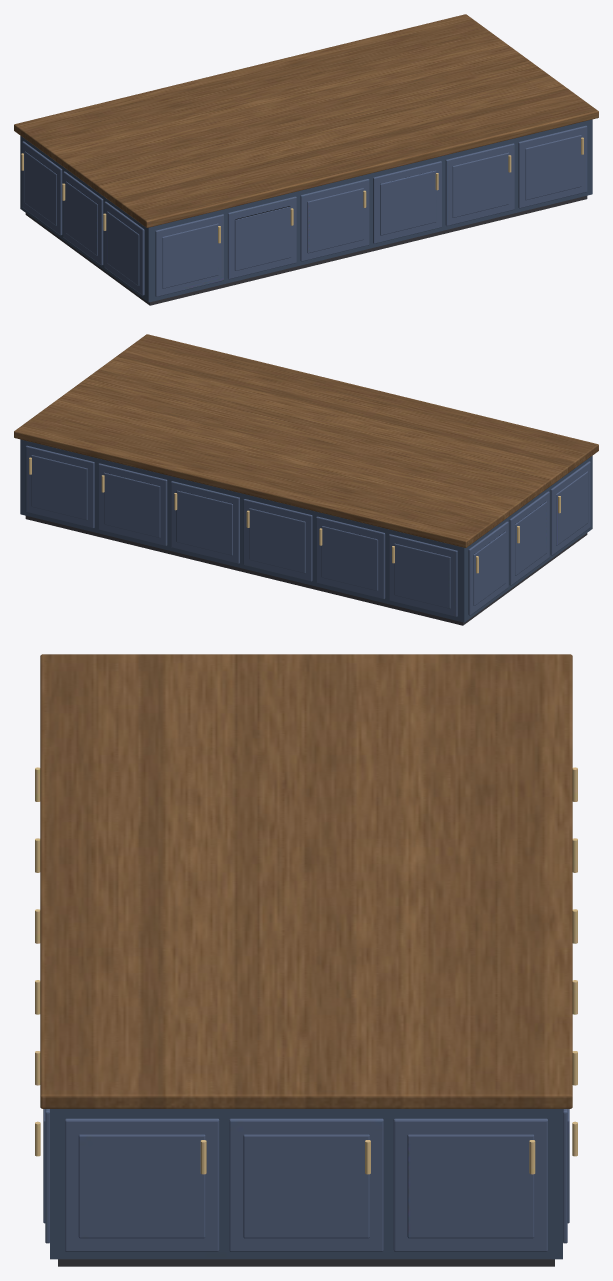
Rendered from counter.glb.
3 views of the same model, one above another, from view 1: azimuth 30°, elevation 25°; view 2: azimuth 150°, elevation 25°; view 3: azimuth 270°, elevation 25° (orthographic). The views are drawn at different scales.
Parts seen in each view (by area): view 1: counter; view 2: counter; view 3: counter.
Part boxes in pixels (<box>): counter: <box>14,14,598,305</box>; counter: <box>14,334,598,625</box>; counter: <box>35,654,577,1266</box>.
Bounding box in the file's own units: 53.54 × 10 × 27.54.
Materials: 1 (1 with a texture image).
